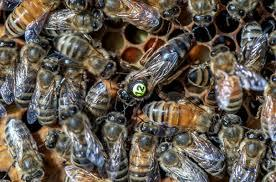Queen-Bee: (115, 28, 196, 108)
worker-bee: (45, 31, 117, 80), (2, 113, 50, 182), (162, 124, 222, 175), (211, 43, 250, 117), (58, 106, 100, 174), (144, 100, 223, 136), (151, 140, 204, 182), (13, 38, 44, 109), (233, 127, 271, 182), (100, 109, 128, 182), (32, 54, 60, 124), (132, 119, 159, 181), (216, 112, 240, 176), (242, 28, 271, 72)
